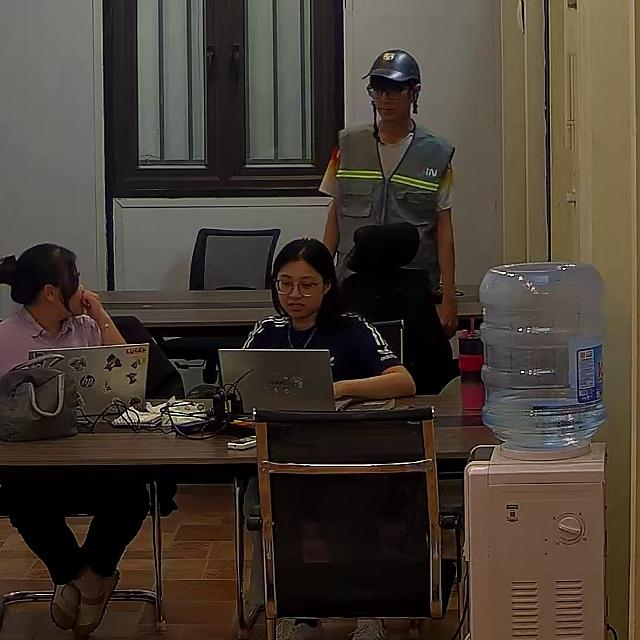helmet: (362, 48, 423, 83)
no_helmet: (270, 237, 340, 321), (1, 243, 79, 306)
none: (239, 310, 400, 389), (0, 305, 103, 397)
vest: (327, 123, 455, 289)
